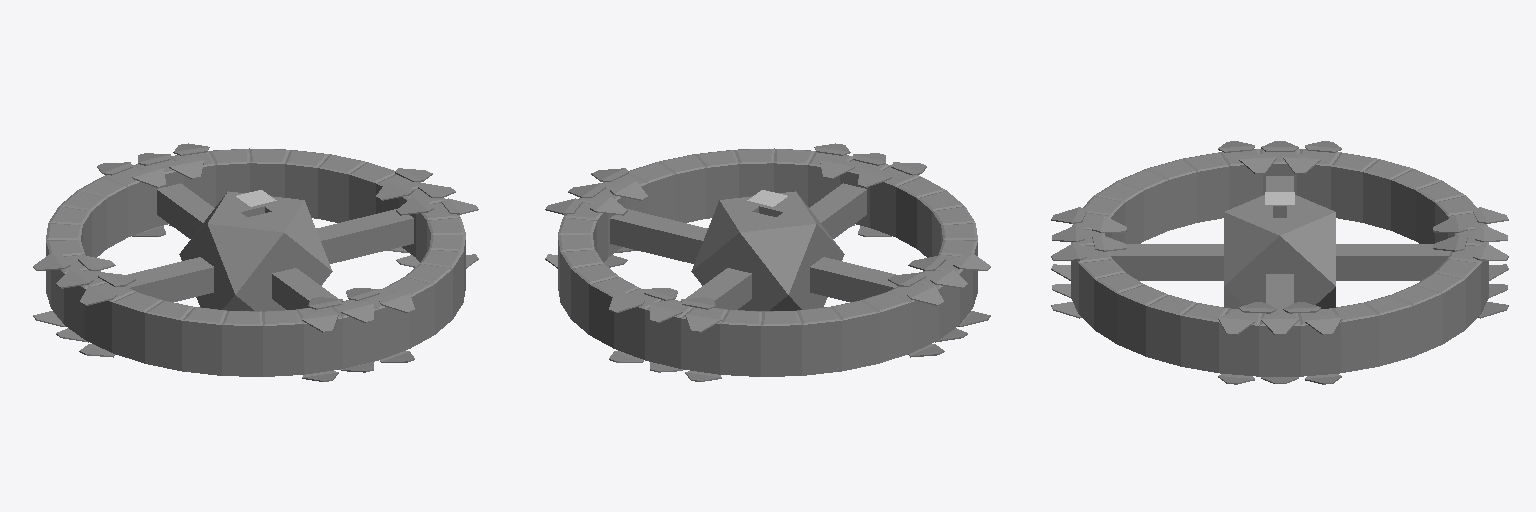
Rendered from hoop_spacestation.obj.
3 renders of one model, left to right at view 1: azimuth 30°, elevation 25°; view 2: azimuth 150°, elevation 25°; view 3: azimuth 270°, elevation 25°, orthographic.
Visible parts, largest first — view 1: default; view 2: default; view 3: default.
Boxes of the visible parts, <box> form: default: <box>33,143,478,381</box>; default: <box>545,143,990,381</box>; default: <box>1051,141,1508,384</box>.
Size of the model in its own units: 3260 by 907 by 3260.